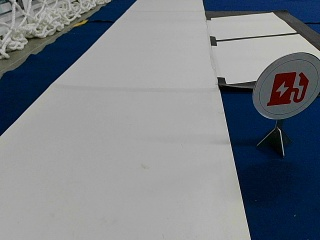battery: (251, 51, 316, 118)
